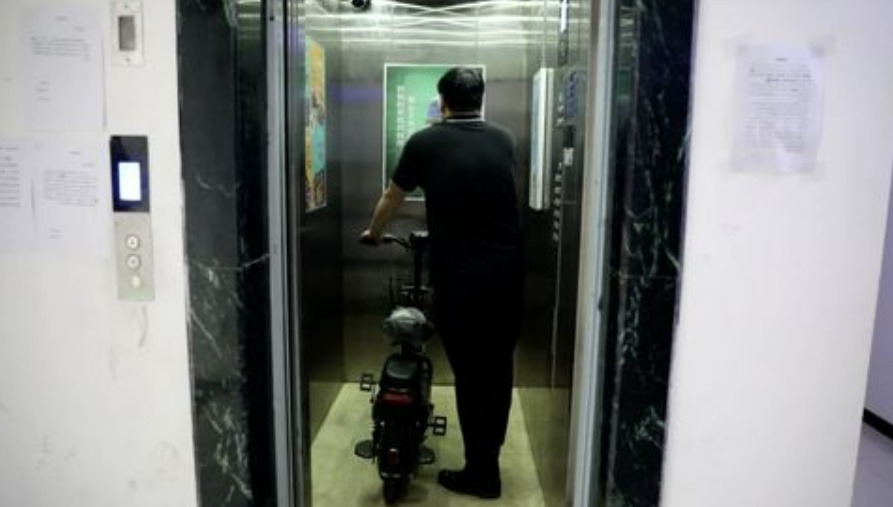ebike: (354, 229, 452, 505)
person: (393, 75, 533, 496)
